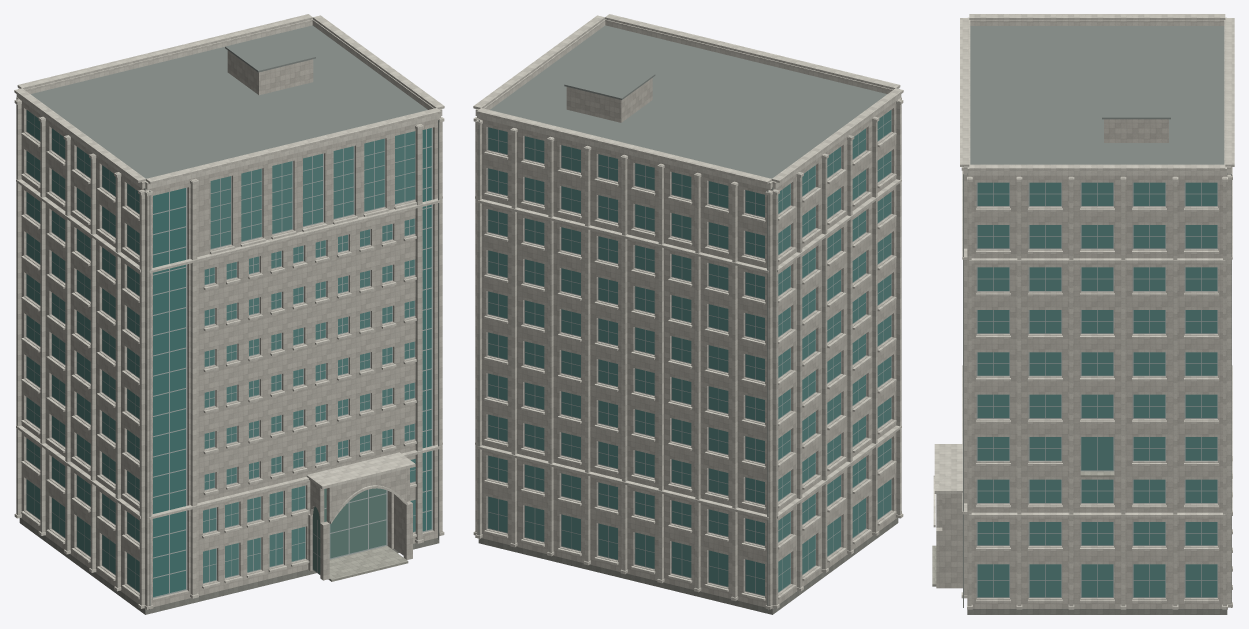
The picture shows the model from 3 angles, left to right: view 1: azimuth 30°, elevation 25°; view 2: azimuth 150°, elevation 25°; view 3: azimuth 270°, elevation 25°; orthographic projection. The views are drawn at different scales.
Visible parts, largest first — view 1: education__stone, education__glass, education__roof, education__cornice, education__pier, education__coreglass, education__frame, education__entryglass, education__baseStone, education__metal, education__threshold-main-arch; view 2: education__stone, education__glass, education__pier, education__roof, education__cornice, education__frame, education__baseStone, education__metal; view 3: education__stone, education__glass, education__roof, education__cornice, education__pier, education__frame, education__baseStone, education__metal.
Boxes of the visible parts, bbox=[...] form: education__stone: bbox=[21, 50, 439, 609]; education__glass: bbox=[26, 110, 415, 591]; education__roof: bbox=[31, 25, 427, 189]; education__cornice: bbox=[14, 14, 444, 609]; education__pier: bbox=[16, 99, 442, 606]; education__coreglass: bbox=[153, 128, 431, 596]; education__frame: bbox=[26, 110, 432, 598]; education__entryglass: bbox=[313, 488, 386, 573]; education__baseStone: bbox=[19, 518, 439, 614]; education__metal: bbox=[149, 120, 439, 610]; education__threshold-main-arch: bbox=[328, 546, 408, 581]; education__stone: bbox=[478, 78, 896, 609]; education__glass: bbox=[488, 110, 891, 595]; education__pier: bbox=[475, 98, 901, 606]; education__roof: bbox=[490, 25, 886, 189]; education__cornice: bbox=[473, 14, 903, 609]; education__frame: bbox=[487, 110, 891, 596]; education__baseStone: bbox=[478, 518, 898, 614]; education__metal: bbox=[478, 120, 768, 610]; education__stone: bbox=[936, 119, 1227, 608]; education__glass: bbox=[977, 182, 1217, 597]; education__roof: bbox=[967, 26, 1227, 175]; education__cornice: bbox=[933, 14, 1234, 609]; education__pier: bbox=[963, 167, 1231, 606]; education__frame: bbox=[976, 182, 1217, 597]; education__baseStone: bbox=[967, 609, 1227, 614]; education__metal: bbox=[963, 174, 1231, 607].
Bounding box in the file's own units: 28.12 × 39.73 × 23.26.
12 materials, 6 textured.
